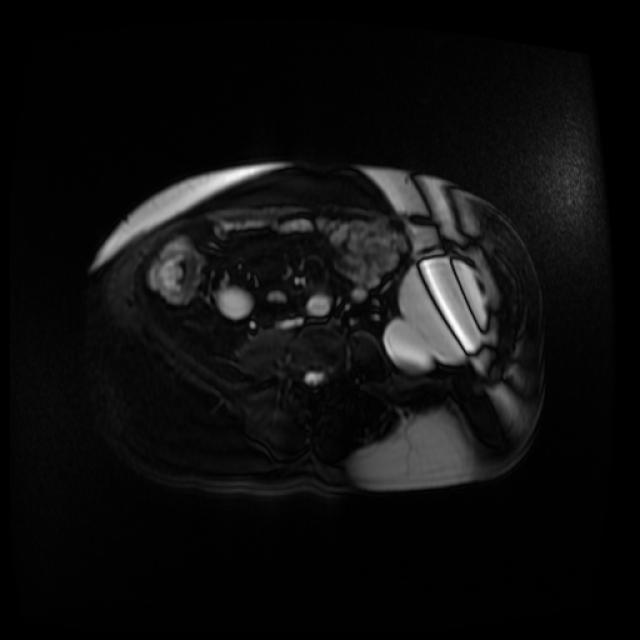sag: (213, 287, 255, 317)
sol: (382, 255, 497, 374)
